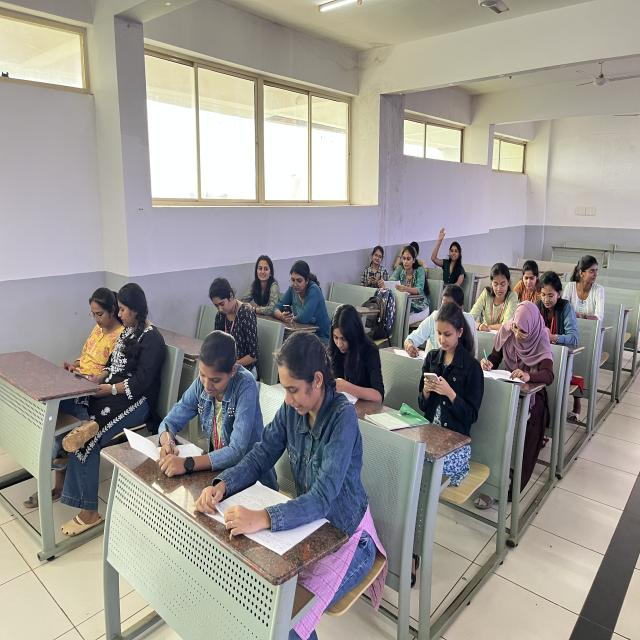Hand Rising: (427, 224, 471, 285)
Reading: (219, 331, 368, 547)
Using Phone: (402, 296, 482, 446), (316, 294, 392, 403), (273, 251, 329, 329), (358, 241, 388, 286)
Writing: (125, 325, 257, 480), (480, 297, 558, 403), (383, 245, 424, 299)
